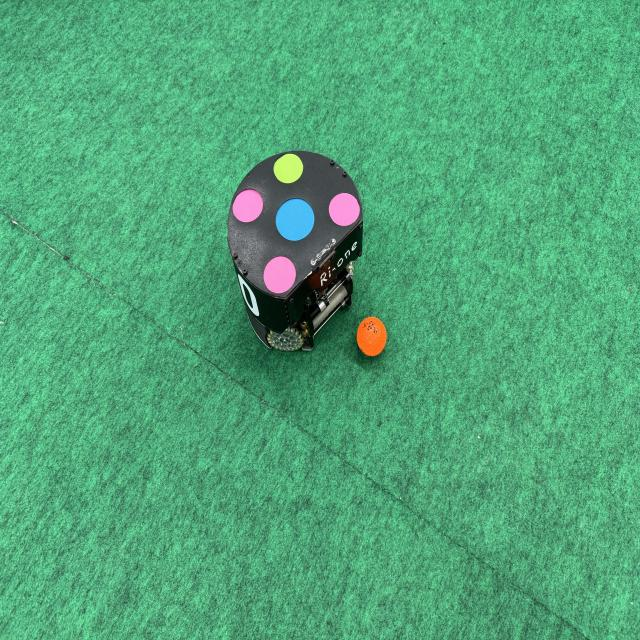ball: (355, 311, 390, 362)
